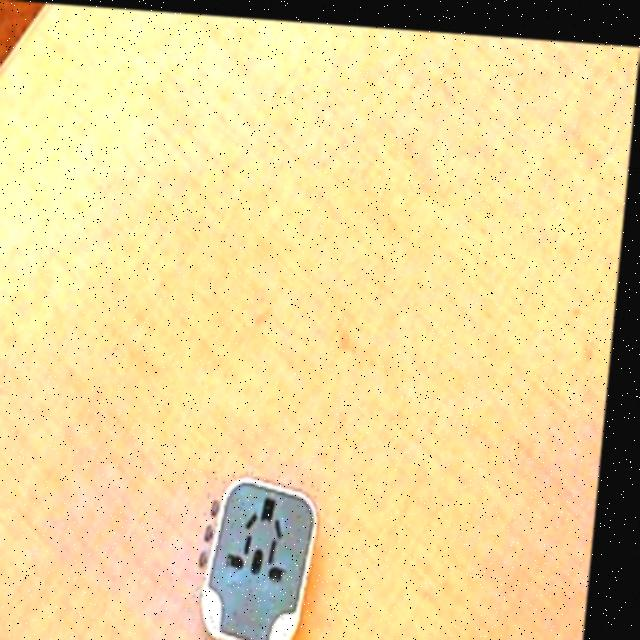adapter: (201, 466, 331, 640)
